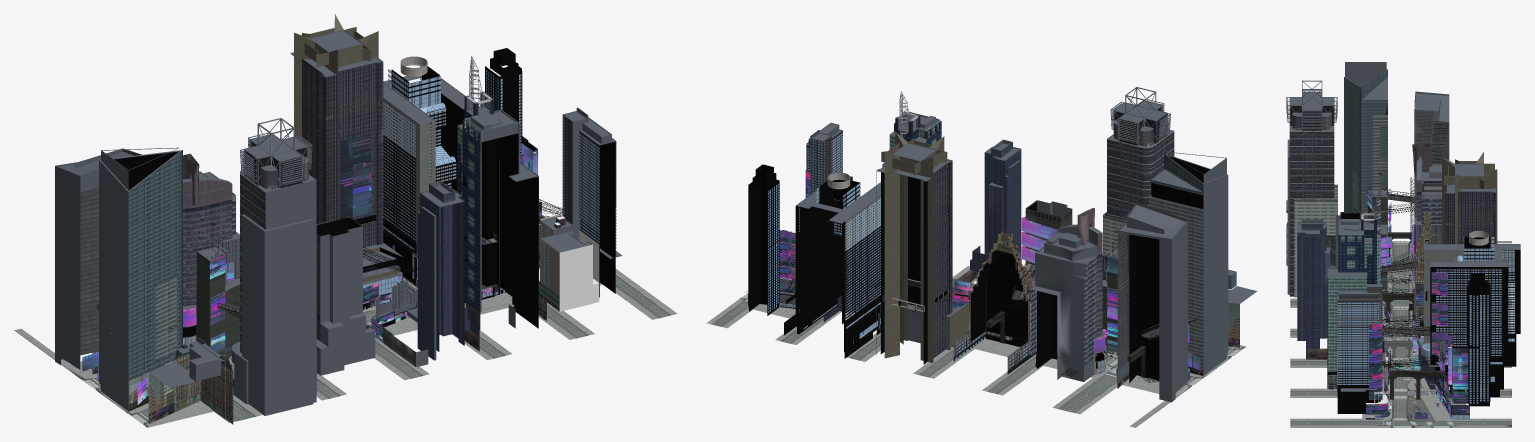
The model's file is city19glb-v1.glb.
3 renders of one model, left to right at view 1: azimuth 30°, elevation 25°; view 2: azimuth 150°, elevation 25°; view 3: azimuth 270°, elevation 25°, orthographic. The views are drawn at different scales.
Parts seen in each view (by area): view 1: skyscraper01_skyscraper_texture_0_115, Object32_metal_gray_0_88, Object01_skyscraper_wall_texture_0_25, interior_01_interior_texture_0_15, Object26_metal_gray_0001_74, Object24_metal_gray_0_69, glass_02_glass_01_0_10, landscape_02_landscape_01_0_19, Object02_skyscraper_wall_texture_0_27, metal_gray01_metal_gray_0_23, Object03_skyscraper_wall_texture_0_29, Object31_metal_gray_0_86 (+4 smaller); view 2: skyscraper01_skyscraper_texture_0_115, interior_01_interior_texture_0_15, Object01_skyscraper_wall_texture_0_25, Object24_metal_gray_0_69, Object02_skyscraper_wall_texture_0_27, landscape_02_landscape_01_0_19, Object26_metal_gray_0001_74, glass_02_glass_01_0_10, metal_gray01_metal_gray_0_23, advertising_screens_texture_03_advertising_screens_texture_0, street_level_03_street_level_texture_02_0_121, Object29_metal_gray_0001_81 (+4 smaller); view 3: skyscraper01_skyscraper_texture_0_115, glass_02_glass_01_0_10, landscape_02_landscape_01_0_19, Object02_skyscraper_wall_texture_0_27, Object01_skyscraper_wall_texture_0_25, interior_01_interior_texture_0_15, metal_gray01_metal_gray_0_23, Object03_skyscraper_wall_texture_0_29, advertising_screens_texture_03_advertising_screens_texture_0, Object24_metal_gray_0_69, Object20_street_level_texture_01_0_63, Object32_metal_gray_0_88 (+22 smaller).
Part boxes in pixels (<box>): skyscraper01_skyscraper_texture_0_115: <box>80,58,538,404</box>; Object32_metal_gray_0_88: <box>234,56,518,415</box>; Object01_skyscraper_wall_texture_0_25: <box>92,14,491,424</box>; interior_01_interior_texture_0_15: <box>114,66,615,335</box>; Object26_metal_gray_0001_74: <box>99,147,396,411</box>; Object24_metal_gray_0_69: <box>55,30,382,369</box>; glass_02_glass_01_0_10: <box>183,66,616,364</box>; landscape_02_landscape_01_0_19: <box>14,214,677,427</box>; Object02_skyscraper_wall_texture_0_27: <box>355,48,536,309</box>; metal_gray01_metal_gray_0_23: <box>59,118,315,381</box>; Object03_skyscraper_wall_texture_0_29: <box>407,108,616,351</box>; Object31_metal_gray_0_86: <box>367,58,615,346</box>; skyscraper01_skyscraper_texture_0_115: <box>882,111,1210,370</box>; interior_01_interior_texture_0_15: <box>749,156,1209,383</box>; Object01_skyscraper_wall_texture_0_25: <box>827,101,1239,388</box>; Object24_metal_gray_0_69: <box>876,142,1187,402</box>; Object02_skyscraper_wall_texture_0_27: <box>748,164,900,358</box>; landscape_02_landscape_01_0_19: <box>706,266,1245,427</box>; Object26_metal_gray_0001_74: <box>880,152,1257,375</box>; glass_02_glass_01_0_10: <box>768,133,1107,373</box>; metal_gray01_metal_gray_0_23: <box>1107,87,1236,289</box>; advertising_screens_texture_03_advertising_screens_texture_0: <box>779,216,1189,343</box>; street_level_03_street_level_texture_02_0_121: <box>823,250,1200,380</box>; Object29_metal_gray_0001_81: <box>796,176,968,350</box>; skyscraper01_skyscraper_texture_0_115: <box>1289,69,1495,371</box>; glass_02_glass_01_0_10: <box>1337,237,1514,419</box>; landscape_02_landscape_01_0_19: <box>1290,241,1511,427</box>; Object02_skyscraper_wall_texture_0_27: <box>1418,250,1520,404</box>; Object01_skyscraper_wall_texture_0_25: <box>1286,106,1514,343</box>; interior_01_interior_texture_0_15: <box>1326,103,1502,413</box>; metal_gray01_metal_gray_0_23: <box>1286,77,1448,267</box>; Object03_skyscraper_wall_texture_0_29: <box>1306,287,1388,401</box>; advertising_screens_texture_03_advertising_screens_texture_0: <box>1364,202,1453,417</box>; Object24_metal_gray_0_69: <box>1387,91,1495,287</box>; Object20_street_level_texture_01_0_63: <box>1369,284,1443,414</box>; Object32_metal_gray_0_88: <box>1287,157,1391,313</box>.
Bounding box in the file's own units: 29.8 × 20.66 × 15.74.
Materials: 24 (16 with a texture image).
